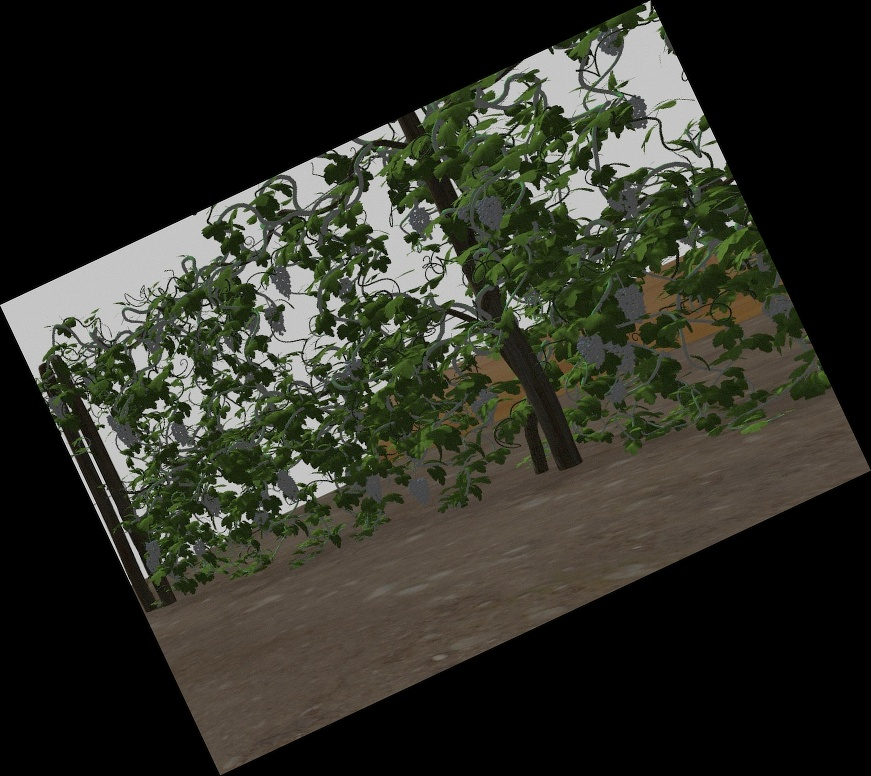grape: (620, 286, 646, 323), (580, 335, 606, 370), (478, 197, 505, 230), (609, 187, 637, 217), (472, 393, 500, 421), (765, 293, 792, 322), (627, 96, 649, 130), (614, 342, 636, 374), (411, 208, 433, 239), (598, 30, 624, 56), (272, 268, 293, 300), (410, 479, 433, 506), (278, 470, 298, 501), (266, 305, 286, 336), (366, 474, 385, 501), (203, 491, 223, 516), (607, 383, 628, 404), (118, 422, 135, 447), (173, 421, 189, 446), (51, 396, 66, 420), (147, 540, 161, 560), (253, 510, 270, 525), (457, 206, 472, 222), (146, 557, 161, 572), (194, 541, 207, 556)
